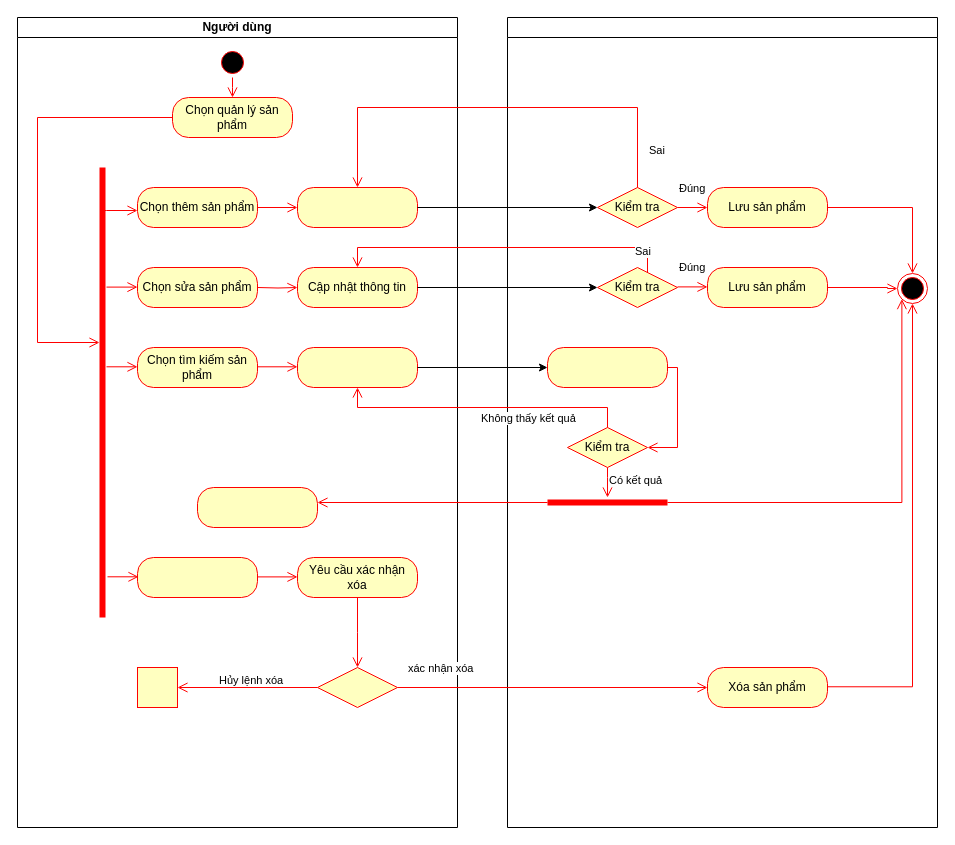
This 955x845 diagram has some shape labels left out. The box of each missing label's shape, as (x1, y1, x2, y2) in pixels:
Chọn xóa sản phẩm: (136, 556, 258, 598)
Hiển thị kết quả: (196, 486, 318, 528)
Hệ thống: (506, 16, 938, 828)
Nhập thông tin sản phẩm: (296, 186, 418, 228)
Nhập từ khóa: (296, 346, 418, 388)
Tìm kiếm theo từ khóa: (546, 346, 668, 388)
Xác nhận: (316, 666, 398, 708)
